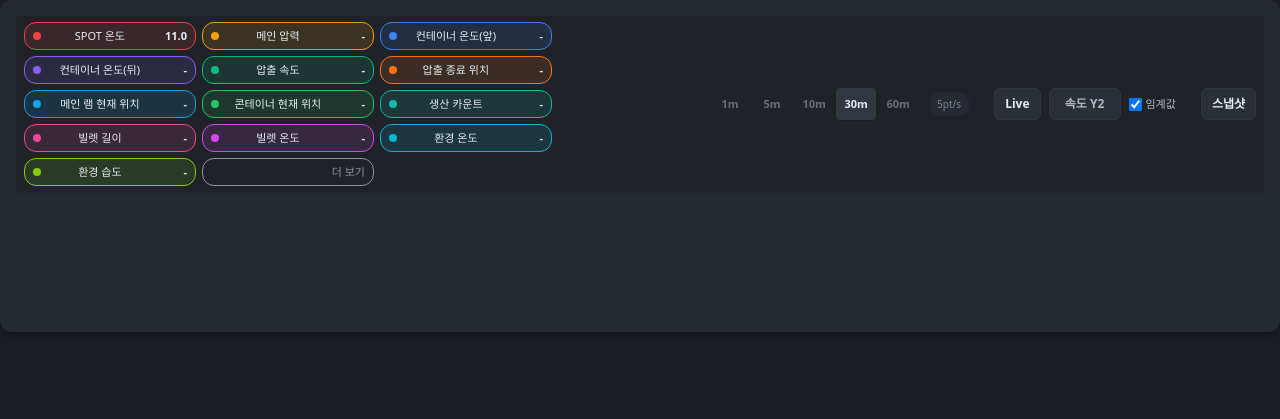
it: TimeSeriesWidget render › moves highlighted series to the top of the tooltip
Focus the button "메인 압력 -": coordinates (288, 36) top-left (202, 22), bottom-right (374, 50)
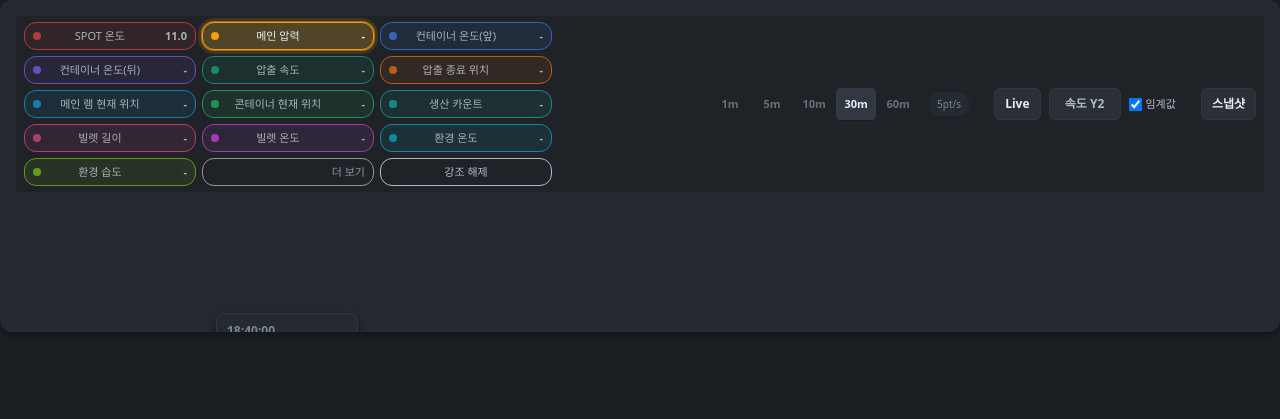
Check: the button "강조 해제" is shown, box top-left (380, 158), bottom-right (552, 186)
